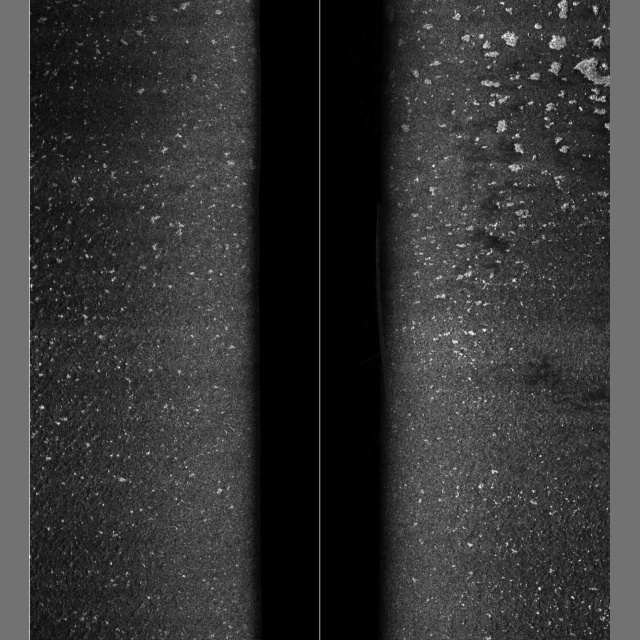Shipwreck: (356, 201, 385, 368)
